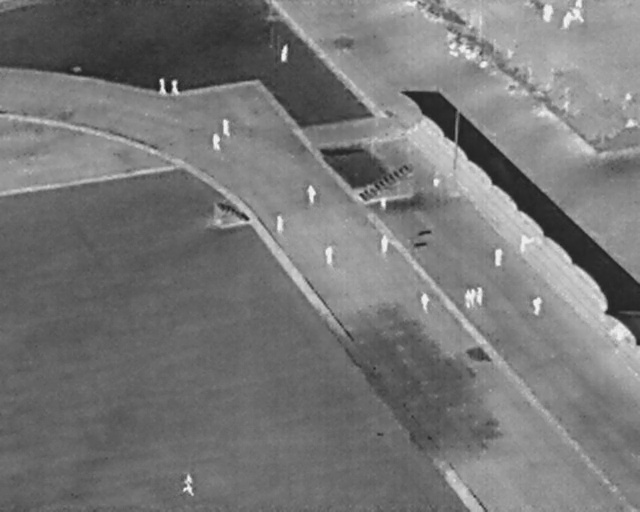DontCare: (443, 26, 490, 70), (539, 1, 586, 29)
Person: (182, 472, 196, 497), (274, 213, 287, 236), (221, 118, 232, 138), (306, 184, 317, 204), (533, 295, 543, 317), (420, 292, 430, 314), (381, 233, 390, 255), (325, 244, 334, 266), (158, 76, 168, 95), (171, 78, 181, 97), (432, 170, 442, 189), (212, 131, 221, 151), (494, 246, 503, 266), (281, 42, 289, 63), (477, 285, 484, 306), (464, 287, 471, 308), (471, 287, 477, 306)
